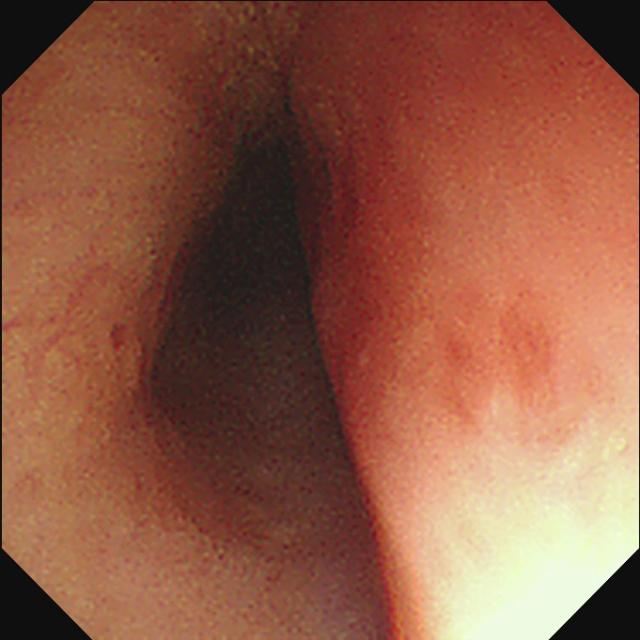E: (185, 141, 310, 312)
